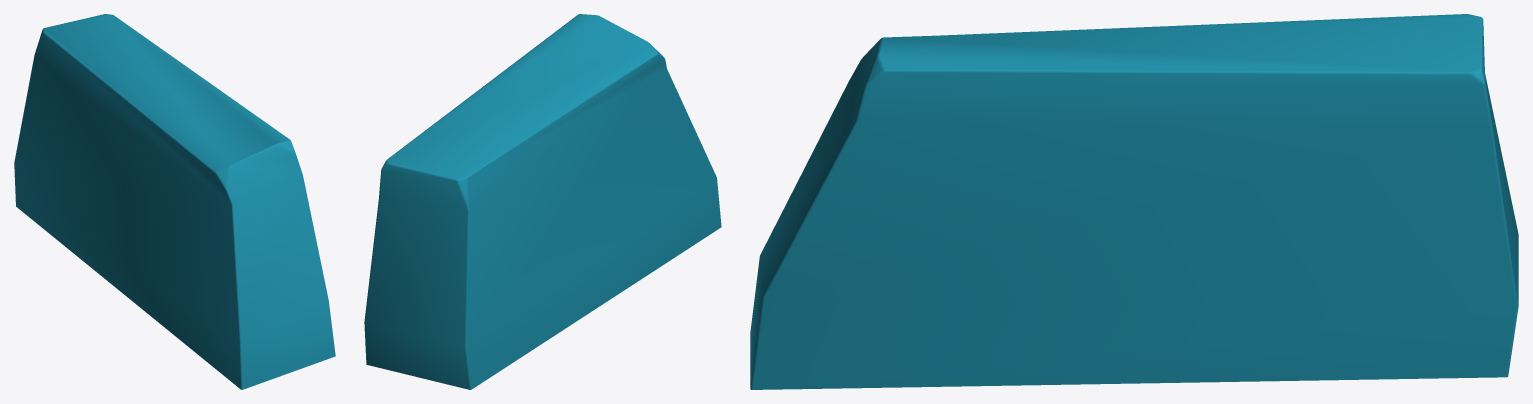
Rendered from Stone3.fbx.
3 renders of one model, left to right at view 1: azimuth 30°, elevation 25°; view 2: azimuth 150°, elevation 25°; view 3: azimuth 270°, elevation 25°, orthographic. The views are drawn at different scales.
Parts seen in each view (by area): view 1: Stone3_Lp; view 2: Stone3_Lp; view 3: Stone3_Lp.
Part boxes in pixels (bbox=[...]): Stone3_Lp: bbox=[14, 14, 335, 389]; Stone3_Lp: bbox=[364, 14, 721, 389]; Stone3_Lp: bbox=[750, 14, 1518, 389].
Bounding box in the file's own units: 53.06 × 108 × 223.
